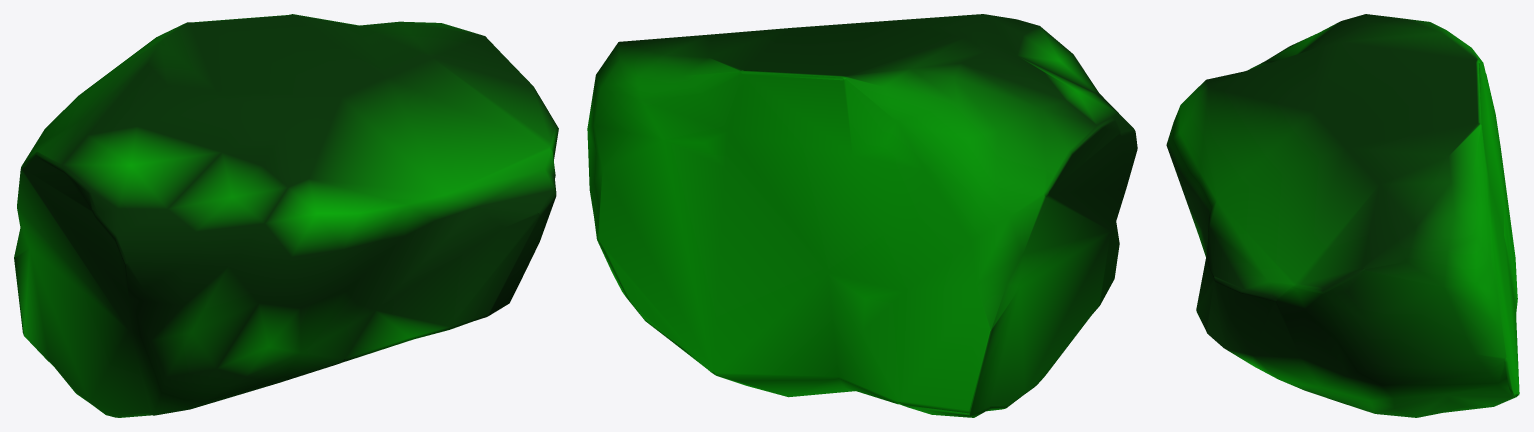
File: boulder-b.glb
The picture shows the model from 3 angles, left to right: view 1: azimuth 30°, elevation 25°; view 2: azimuth 150°, elevation 25°; view 3: azimuth 270°, elevation 25°; orthographic projection. The views are drawn at different scales.
Visible parts, largest first — view 1: boulder-b; view 2: boulder-b; view 3: boulder-b.
Boxes of the visible parts, x1,y1,x2,y2 form: boulder-b: [14, 14, 558, 417]; boulder-b: [587, 14, 1137, 417]; boulder-b: [1166, 14, 1519, 417].
Bounding box in the file's own units: 1.82 × 1.18 × 1.26.
